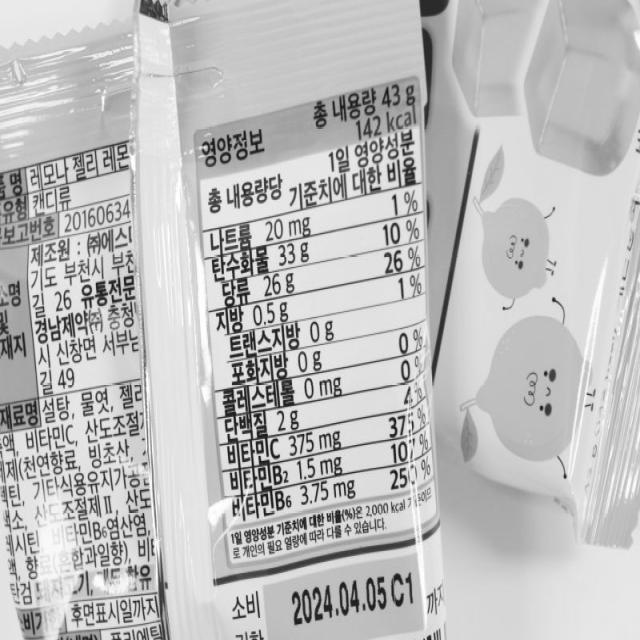Nutrition Label: (185, 73, 448, 564)
